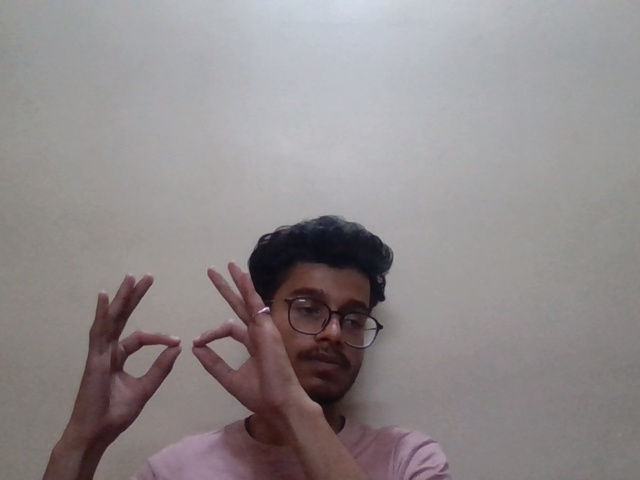nice: (75, 255, 315, 440)
